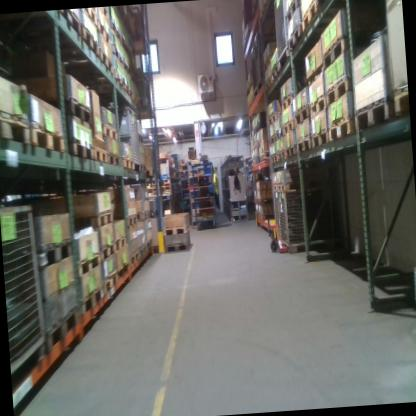pallet: (351, 93, 398, 134), (45, 306, 82, 355), (319, 32, 363, 71), (51, 92, 95, 129), (0, 104, 32, 154), (29, 119, 66, 159), (35, 236, 74, 272), (323, 72, 360, 109), (69, 207, 114, 233), (49, 8, 84, 41), (79, 286, 107, 319), (66, 138, 94, 169), (328, 115, 358, 142), (300, 0, 327, 29), (77, 250, 103, 280), (81, 24, 101, 63), (303, 60, 326, 88), (311, 126, 334, 153), (285, 28, 308, 55), (97, 46, 113, 83), (308, 94, 330, 119), (283, 0, 302, 27), (100, 270, 118, 298), (89, 141, 109, 166), (99, 238, 118, 264), (280, 91, 301, 114), (393, 89, 410, 117), (270, 181, 306, 194), (294, 103, 312, 127), (162, 221, 192, 235), (79, 8, 99, 29), (113, 66, 128, 93), (104, 148, 120, 173), (106, 18, 123, 41), (97, 21, 112, 47), (115, 262, 131, 286), (164, 240, 191, 253), (295, 137, 313, 156), (99, 124, 118, 142), (126, 84, 140, 108), (262, 53, 280, 71), (125, 62, 138, 85), (281, 120, 299, 136), (123, 33, 134, 58), (135, 207, 152, 223), (284, 143, 299, 161), (112, 43, 124, 65), (119, 158, 135, 174), (95, 6, 111, 22), (137, 242, 149, 263), (115, 234, 128, 253), (265, 73, 277, 93), (267, 112, 283, 126), (128, 250, 140, 267), (276, 145, 285, 167), (127, 213, 139, 228), (268, 132, 277, 149), (269, 152, 278, 164)
pallet_truck: (259, 165, 289, 255)
stillage: (0, 194, 54, 397), (278, 183, 335, 255), (254, 28, 279, 96), (117, 104, 142, 170), (272, 0, 294, 70), (249, 42, 259, 101), (271, 184, 281, 235)
